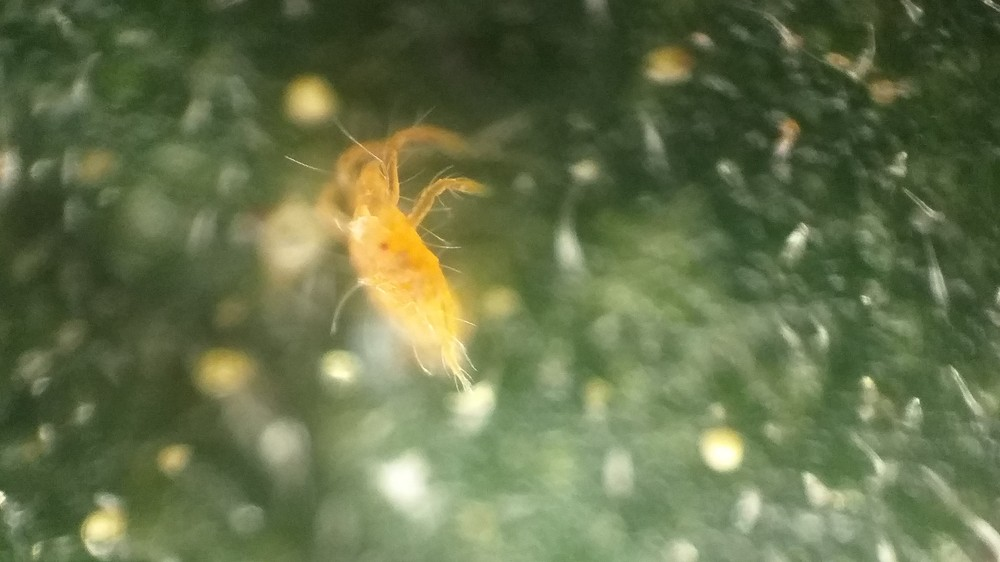Aracnido Rojo: (302, 117, 539, 418)
